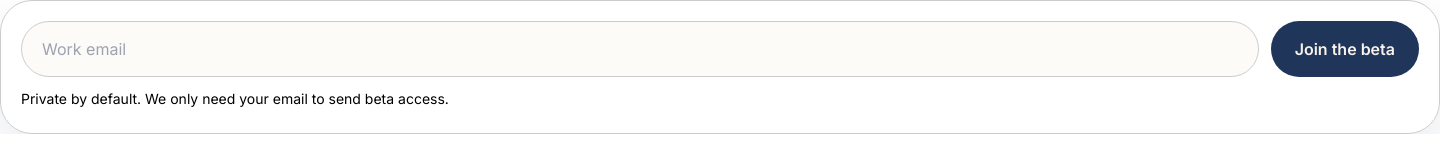
it: BetaSignupForm › shows a configuration error when no endpoint is provided
Type "leo@example.com" into the field named "email address" at point(640, 49), box [21,21,1259,77]
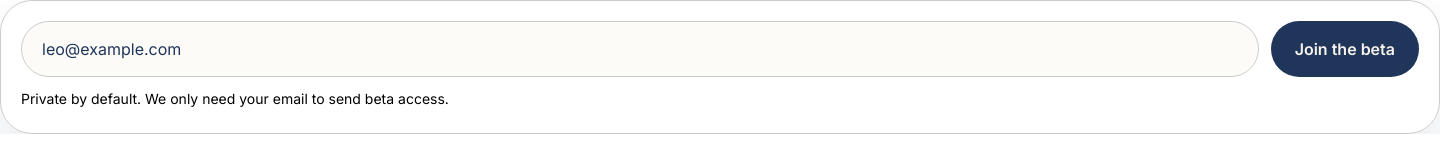
Submit the form "Join the beta"
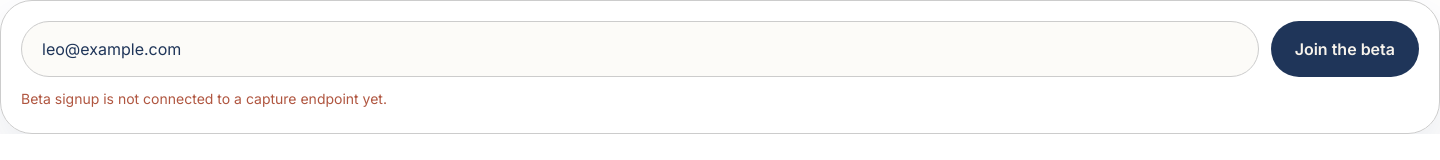
Expected: the text "Beta signup is not connected to a capture endpoint yet." is shown, [21,90,387,107]
